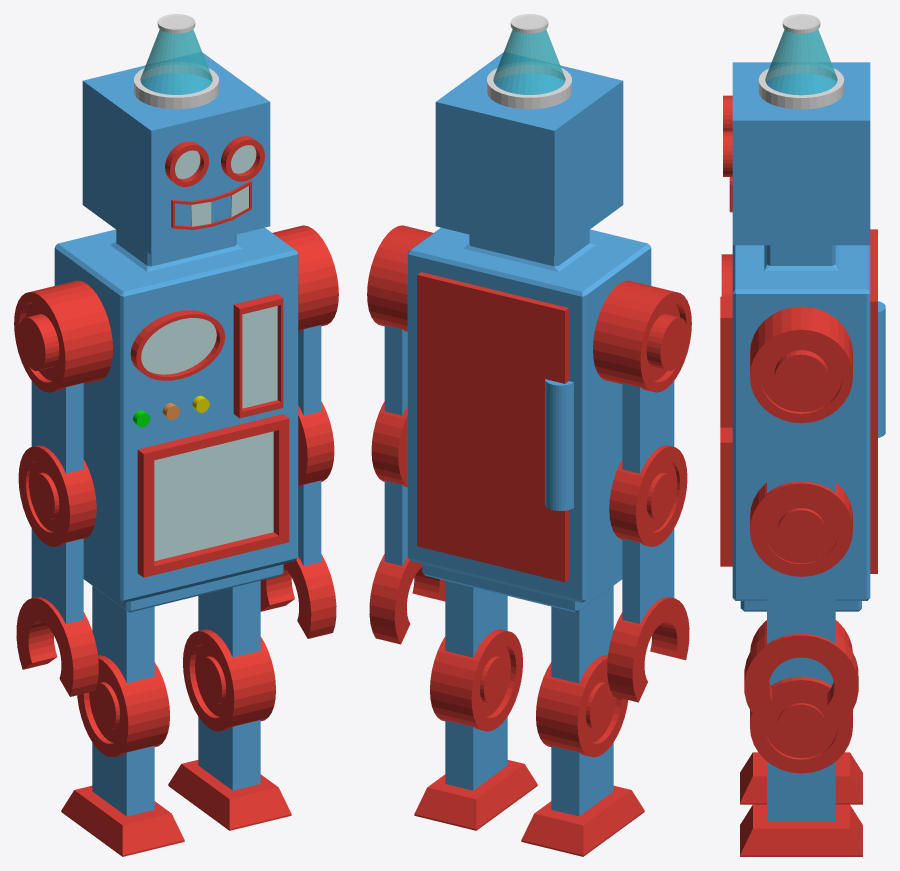
Rendered from RobotRigged.fbx.
3 views of the same model, side by side, from view 1: azimuth 30°, elevation 25°; view 2: azimuth 150°, elevation 25°; view 3: azimuth 270°, elevation 25° (orthographic).
Parts seen in each view (by area): view 1: Body, Head, Cube, Cylinder.003, Cube.001, Cube.006, Cylinder.007, Cube.009, Cylinder.016, Cylinder.009, Cylinder.010, Cube.008 (+14 smaller); view 2: Cube.010, Body, Head, Cylinder.003, Cube.001, Cube.006, Cylinder.007, Cylinder.016, Cylinder.009, Cube.008, Cube.002, Cube.005 (+11 smaller); view 3: Body, Head, Cylinder, Cylinder.002, Cube.001, Cylinder.016, Cylinder.004, Cube.002, Cylinder.001, Cylinder.005, Cube.003, Cube.010 (+9 smaller).
Part boxes in pixels (x1,y1,x2,y2): Body: [54, 227, 298, 612]; Head: [82, 52, 270, 255]; Cube: [137, 414, 289, 577]; Cylinder.003: [14, 280, 112, 392]; Cube.001: [183, 629, 275, 731]; Cube.006: [77, 655, 169, 757]; Cylinder.007: [18, 445, 96, 546]; Cube.009: [233, 294, 283, 418]; Cylinder.016: [134, 14, 218, 109]; Cylinder.009: [16, 597, 98, 696]; Cylinder.010: [130, 310, 225, 380]; Cube.008: [61, 785, 184, 856]; Cube.010: [417, 272, 568, 582]; Body: [407, 227, 651, 612]; Head: [435, 52, 623, 255]; Cylinder.003: [593, 280, 691, 392]; Cube.001: [430, 629, 522, 731]; Cube.006: [536, 655, 628, 757]; Cylinder.007: [609, 445, 687, 546]; Cylinder.016: [487, 14, 571, 109]; Cylinder.009: [607, 597, 689, 702]; Cube.008: [521, 785, 644, 856]; Cube.002: [414, 760, 537, 830]; Cube.005: [551, 586, 613, 683]; Body: [732, 245, 870, 611]; Head: [729, 62, 870, 245]; Cylinder: [750, 306, 852, 423]; Cylinder.002: [750, 481, 852, 576]; Cube.001: [750, 676, 852, 773]; Cylinder.016: [758, 14, 844, 109]; Cylinder.004: [744, 633, 858, 719]; Cube.002: [740, 804, 862, 856]; Cylinder.001: [767, 411, 835, 492]; Cylinder.005: [767, 565, 835, 643]; Cube.003: [767, 761, 835, 821]; Cube.010: [870, 229, 877, 573].
Size of the model in its own units: 966 by 2547 by 482.
